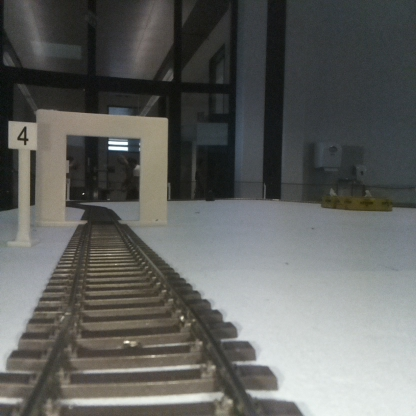white-info-4: (8, 122, 38, 244)
